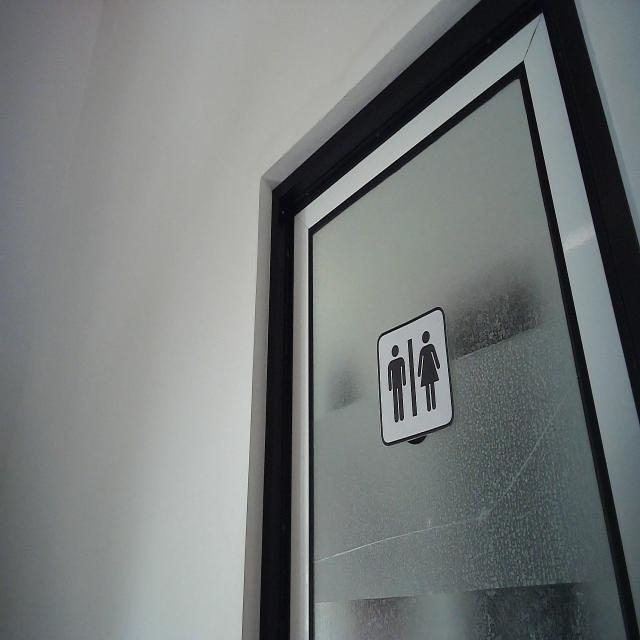restroom: (376, 305, 456, 447)
